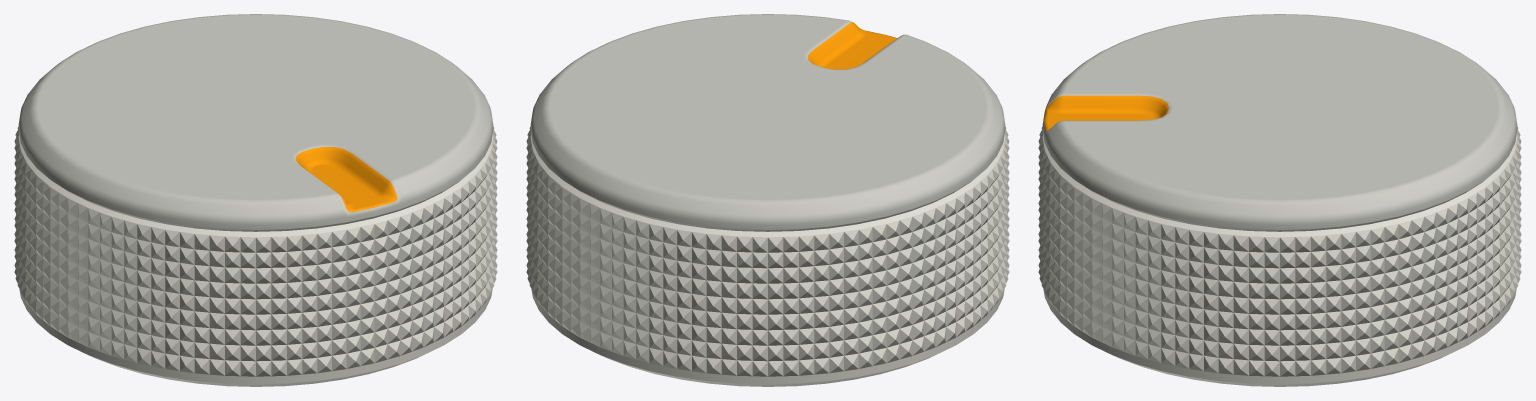
Rendered from shinydial.fbx.
The picture shows the model from 3 angles, left to right: view 1: azimuth 30°, elevation 25°; view 2: azimuth 150°, elevation 25°; view 3: azimuth 270°, elevation 25°; orthographic projection.
Visible parts, largest first — view 1: knob_013; view 2: knob_013; view 3: knob_013.
Boxes of the visible parts, x1,y1,x2,y2 form: knob_013: (14,14,497,386); knob_013: (526,14,1009,386); knob_013: (1038,14,1521,386).
Size of the model in its own units: 5.09 by 2.14 by 5.09.
